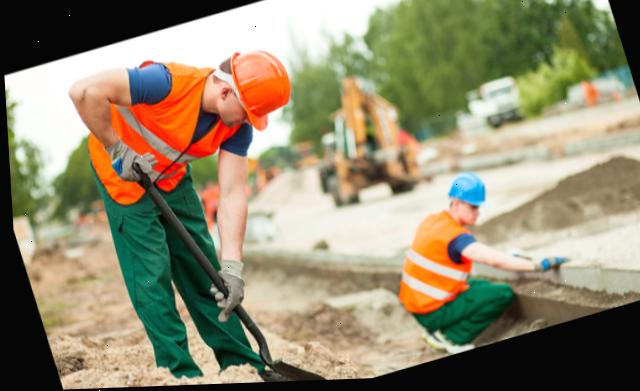helmet: (224, 43, 299, 133), (438, 169, 486, 218)
vest: (69, 57, 240, 205), (373, 211, 481, 322)
